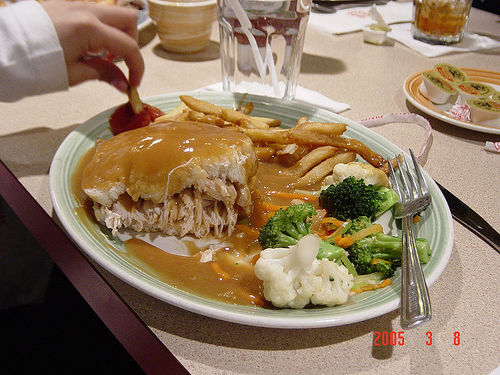cauliflower: (255, 233, 352, 307), (317, 159, 391, 199)
